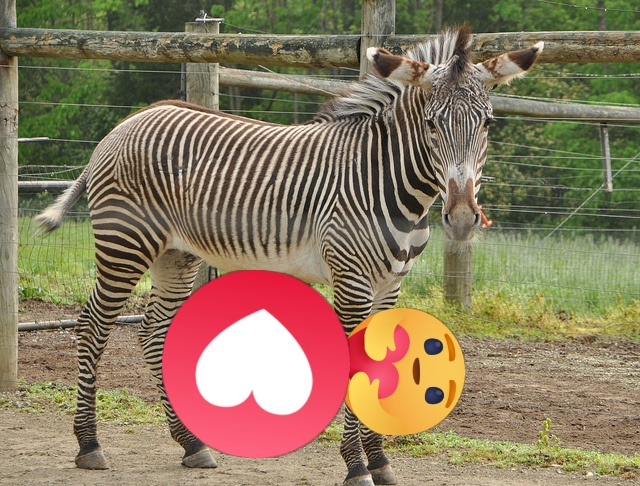care: (338, 308, 465, 435)
love: (162, 270, 350, 458)
